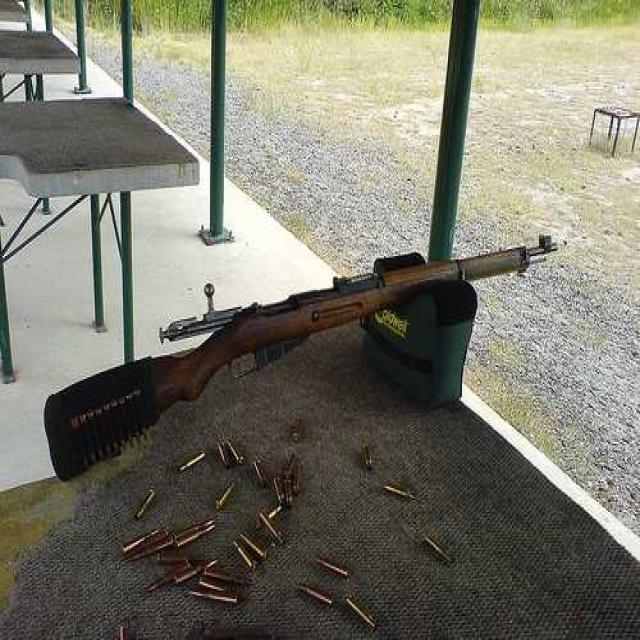heavyweapon: (14, 201, 562, 491)
